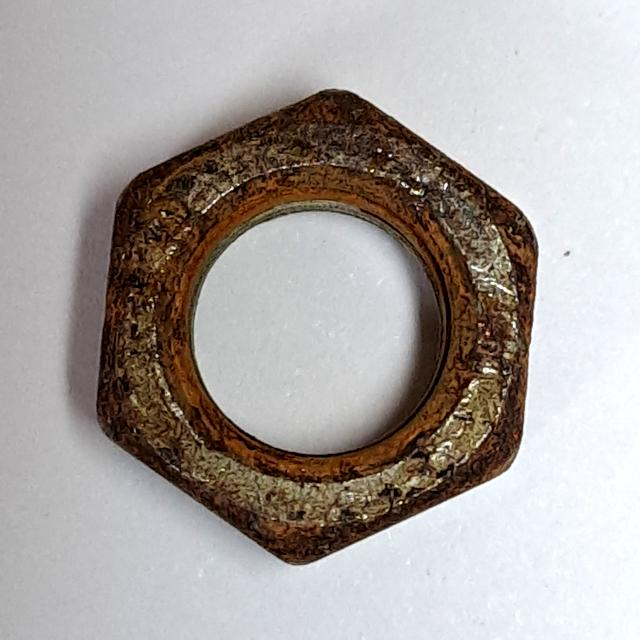Rust: (83, 78, 550, 581)
